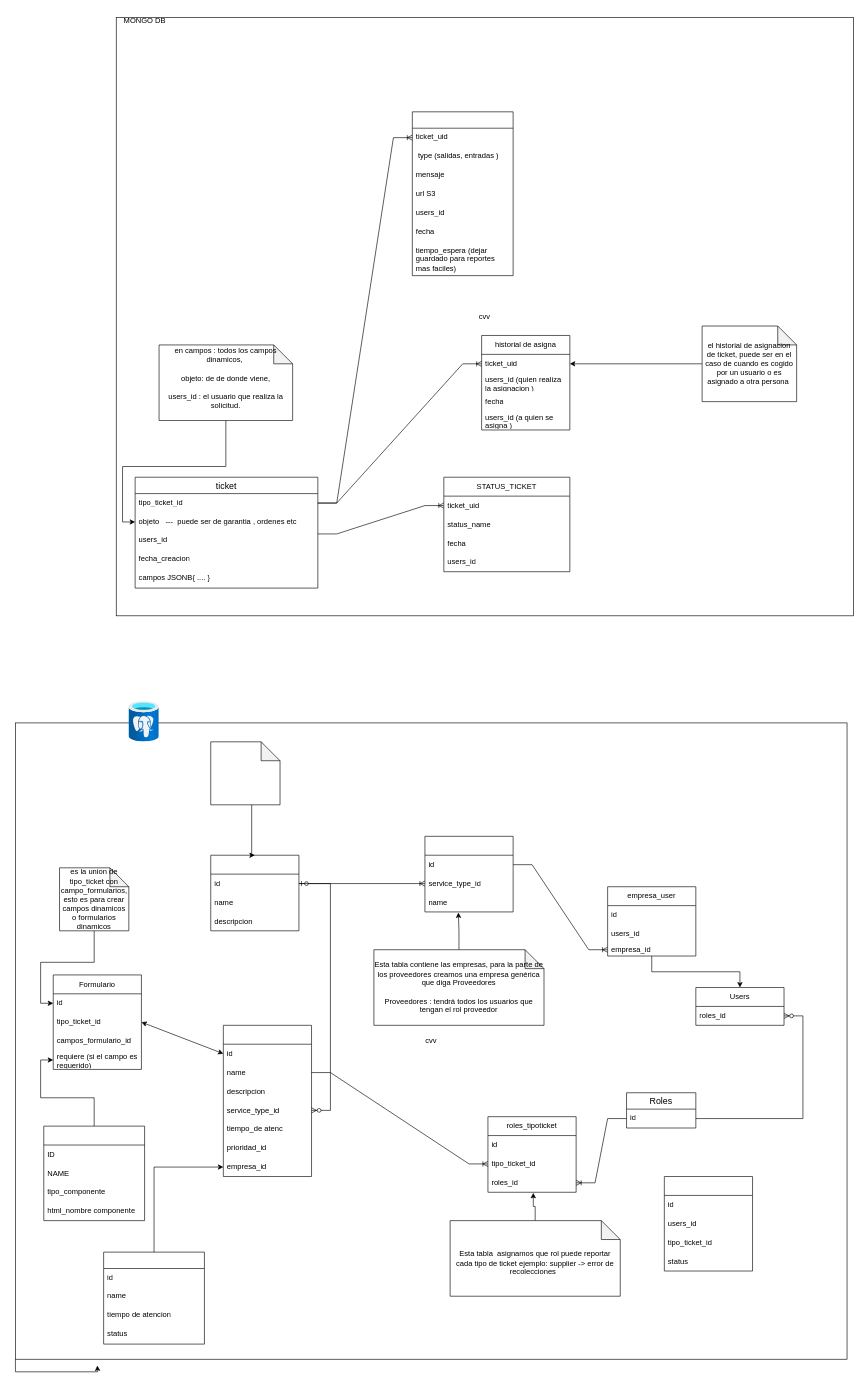
The diagram is 864 pixels wide and 1388 high, and some of its shapes have lost their labels. The box of each missing label's shape, as (x1, y1, x2, y2) in pixels:
CAMPOS_FORMULARIOS: (43, 1125, 145, 1221)
Empresa: (424, 836, 513, 912)
esta tabla es para crear el tipo de de proveedor de servicio: (210, 741, 280, 805)
intera_ticket: (412, 111, 513, 276)
prioridad: (103, 1251, 204, 1344)
service_type: (210, 855, 299, 931)
tipo_ticket: (223, 1025, 312, 1177)
tipo_ticket_users: (664, 1176, 753, 1271)
